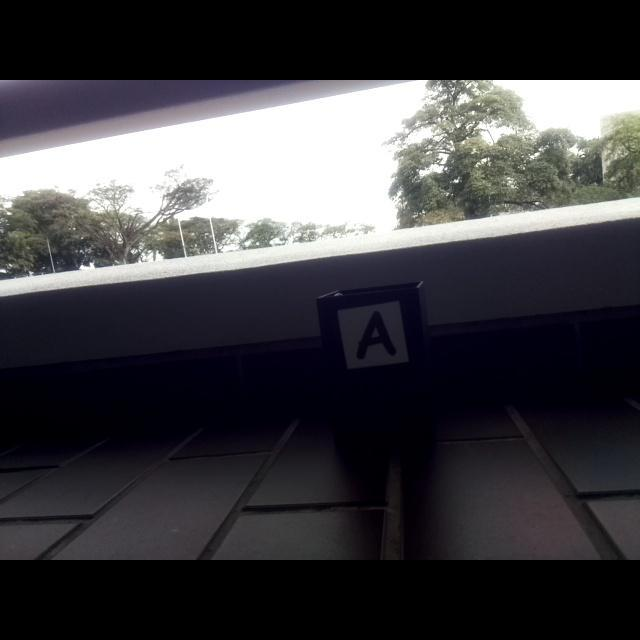A: (356, 311, 396, 360)
